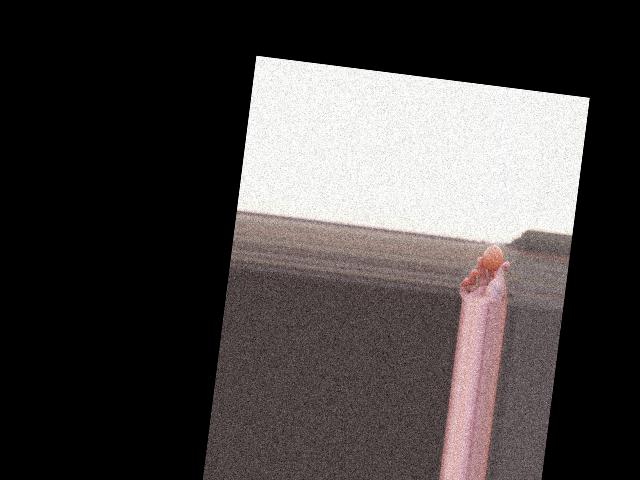egg: (480, 243, 504, 271)
